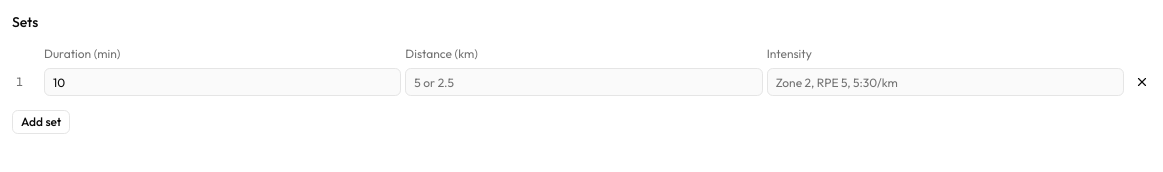
SetsTable aerobic › shows an error and keeps the last valid value for invalid text
The width and height of the screenshot is (1163, 172).
Type "x" into the field named "Set 1: Duration (min)" at (223, 82), box [44,68,401,96]
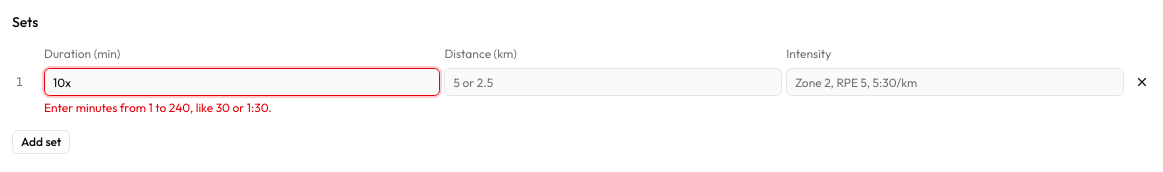
Expected: the text "Enter minutes from 1 to 240, like 30 or 1:30." is shown, [44,100,272,115]
Clear the field named "Set 1: Duration (min)" at (242, 82), box [44,68,440,96]
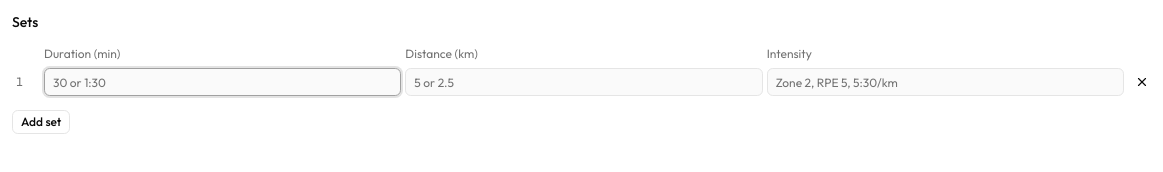
Type "0" into the field named "Set 1: Duration (min)" at (223, 82), box [44,68,401,96]
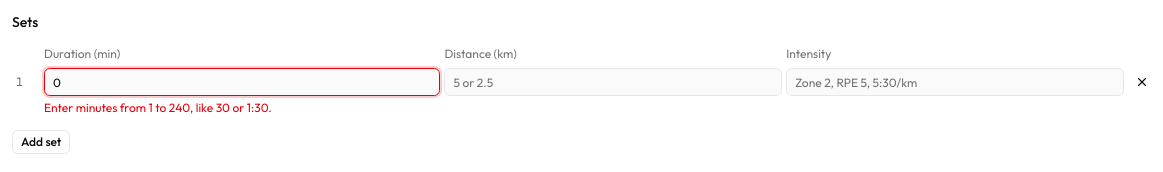
Expected: the text "Enter minutes from 1 to 240, like 30 or 1:30." is shown, [44,100,272,115]
